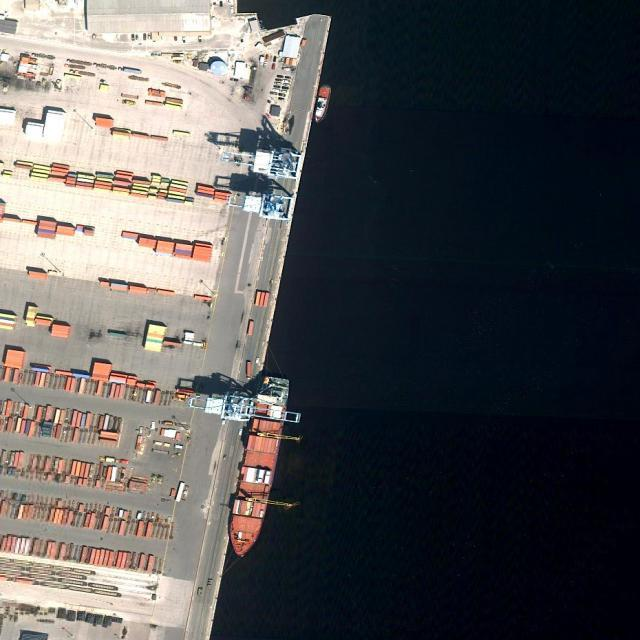Container Ship: (223, 372, 293, 561)
Other Ship: (314, 85, 332, 125)
